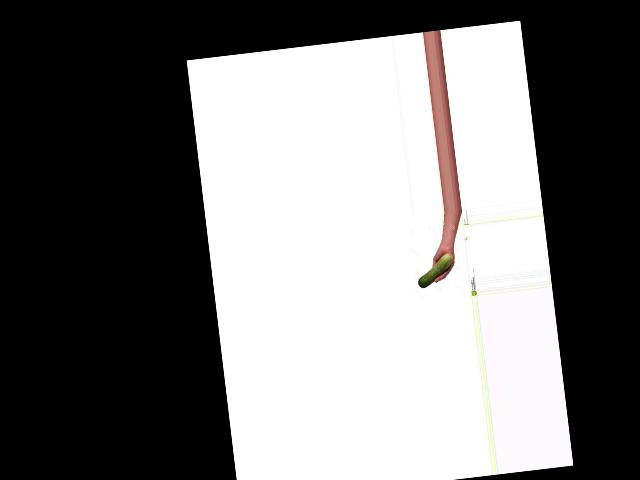cucumber: (415, 253, 455, 287)
